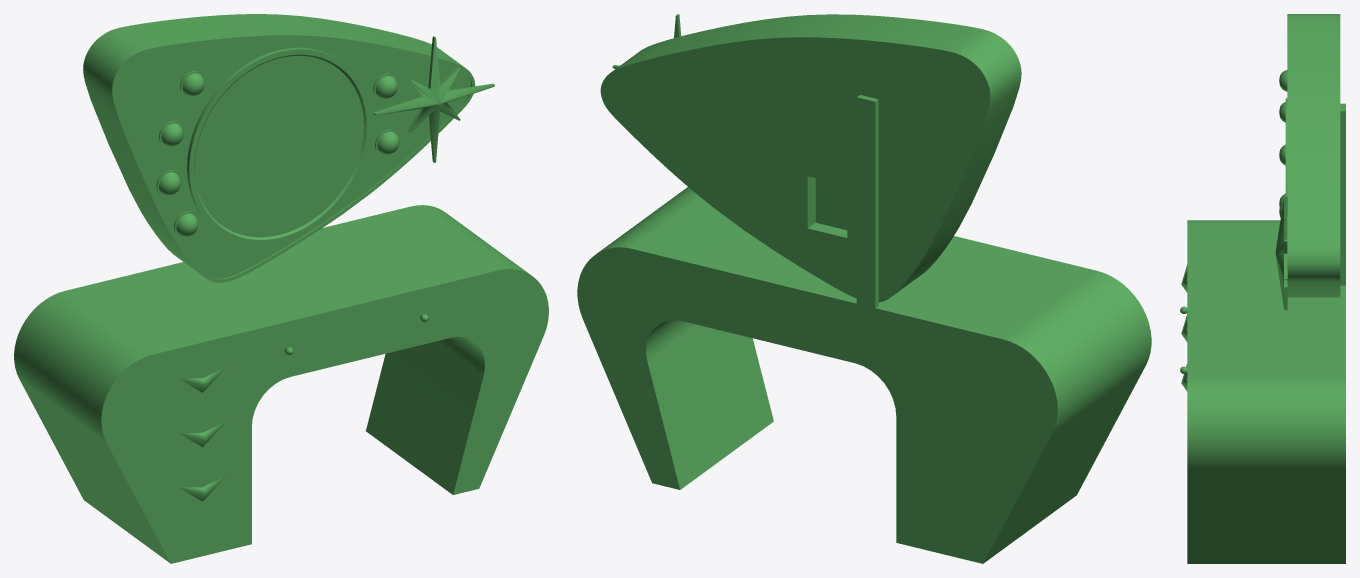
File: SM_VanityDresser_01a.fbx
3 renders of one model, left to right at view 1: azimuth 30°, elevation 25°; view 2: azimuth 150°, elevation 25°; view 3: azimuth 270°, elevation 25°, orthographic. The views are drawn at different scales.
Parts seen in each view (by area): view 1: SM_VanityDresser_01a; view 2: SM_VanityDresser_01a; view 3: SM_VanityDresser_01a.
Boxes of the visible parts, x1,y1,x2,y2 form: SM_VanityDresser_01a: (14, 14, 548, 563); SM_VanityDresser_01a: (577, 14, 1151, 563); SM_VanityDresser_01a: (1180, 14, 1345, 563).
Size of the model in its own units: 5.75 by 5.73 by 2.03.
